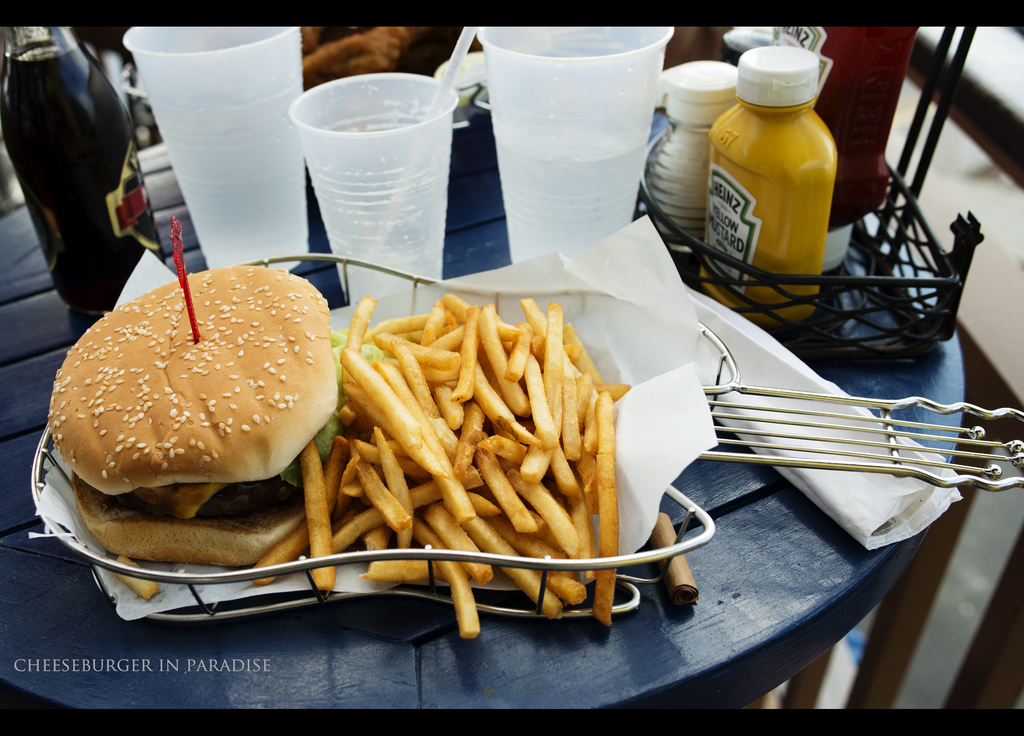French fries: (248, 279, 631, 644), (113, 553, 161, 593)
